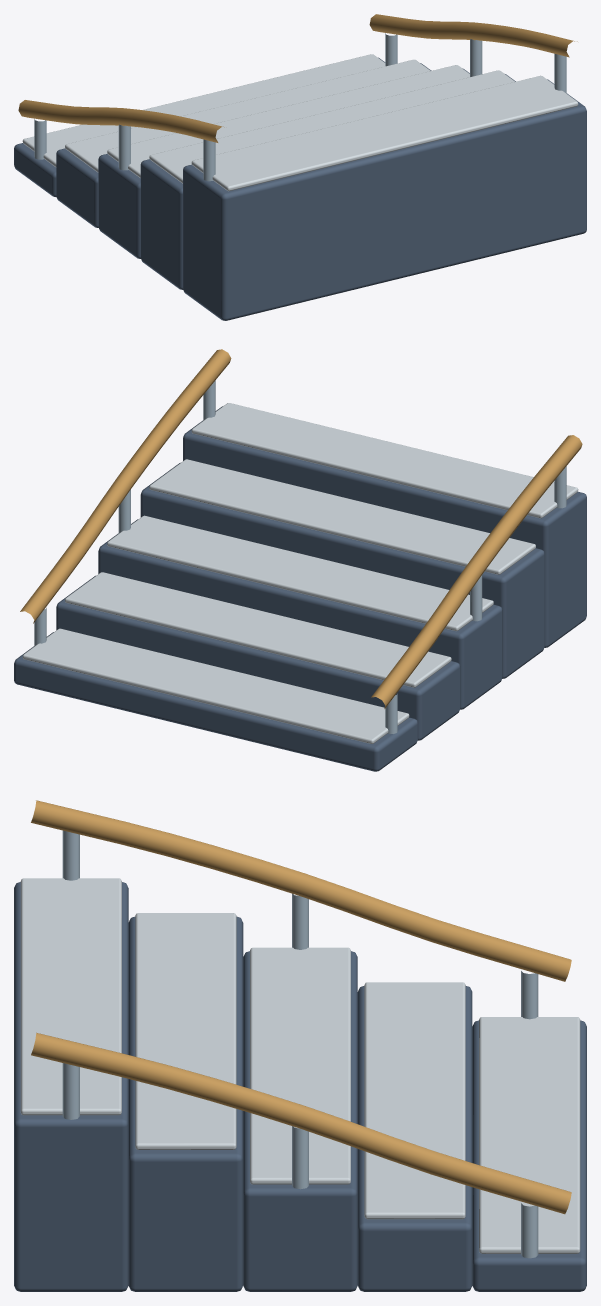
Rendered from moonsteel-convergence-sanctuary-stairs-3cd92d7a__18161.glb.
3 views of the same model, one above another, from view 1: azimuth 30°, elevation 25°; view 2: azimuth 150°, elevation 25°; view 3: azimuth 270°, elevation 25° (orthographic). The views are drawn at different scales.
Visible parts, largest first — view 1: sanctuary-stairs; view 2: sanctuary-stairs; view 3: sanctuary-stairs.
Part boxes in pixels (left/top/right/bottom): sanctuary-stairs: left=14, top=14, right=586, bottom=320; sanctuary-stairs: left=14, top=349, right=586, bottom=771; sanctuary-stairs: left=14, top=800, right=586, bottom=1291.
Size of the model in its own units: 3.01 by 1.48 by 3.
